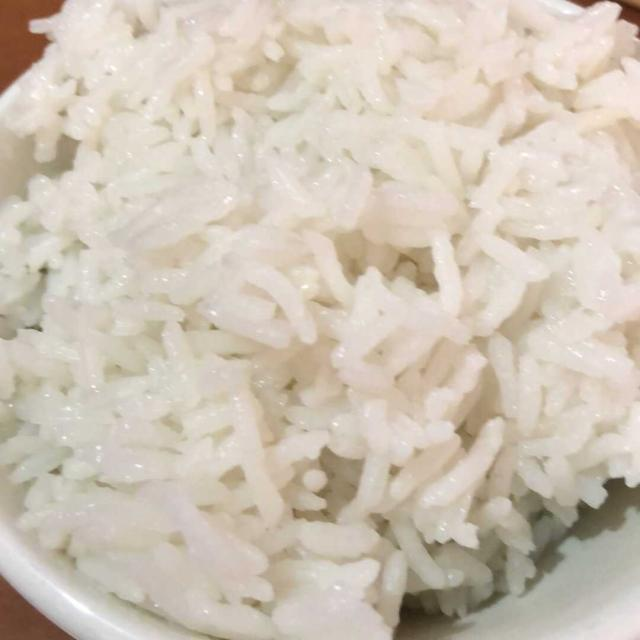arroz: (2, 2, 636, 636)
